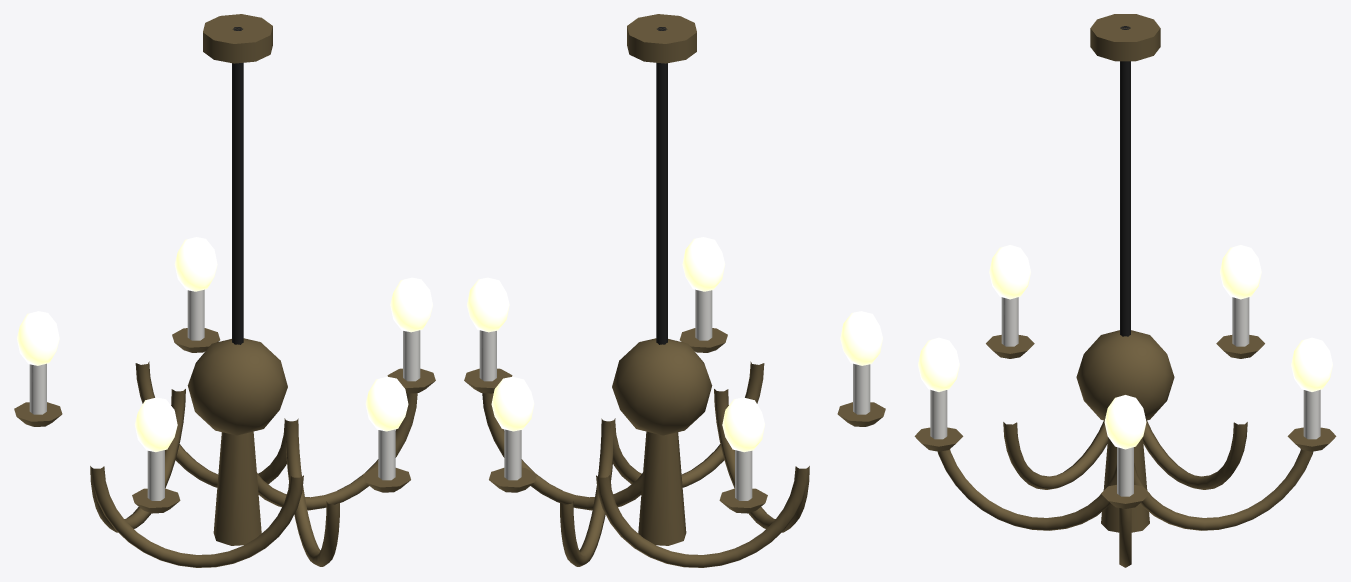
The model's file is chandelier.glb.
3 renders of one model, left to right at view 1: azimuth 30°, elevation 25°; view 2: azimuth 150°, elevation 25°; view 3: azimuth 270°, elevation 25°, orthographic. The views are drawn at different scales.
Parts seen in each view (by area): view 1: chandelier; view 2: chandelier; view 3: chandelier.
Boxes of the visible parts, box(x1,y1,x2,y2) form: chandelier: box(14, 14, 435, 567); chandelier: box(464, 14, 885, 567); chandelier: box(914, 14, 1336, 567).
Bounding box in the file's own units: 0.5765 × 0.78 × 0.6026.
